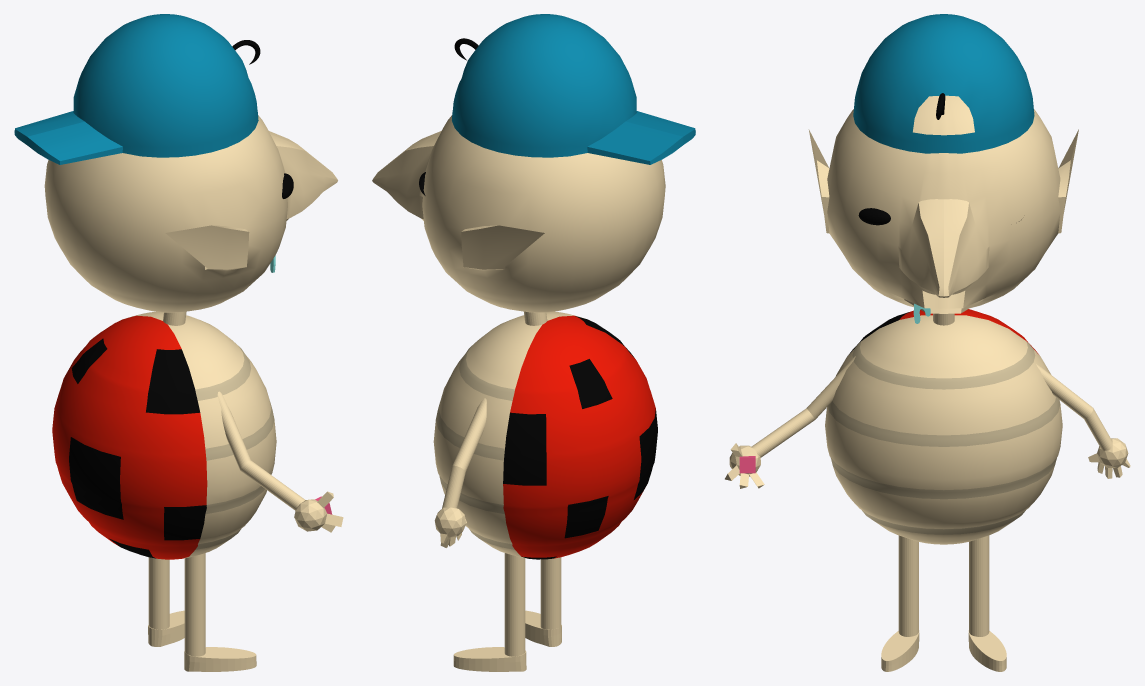
File: Ranchykinz.fbx
3 views of the same model, side by side, from view 1: azimuth 30°, elevation 25°; view 2: azimuth 150°, elevation 25°; view 3: azimuth 270°, elevation 25° (orthographic). The views are drawn at different scales.
Visible parts, largest first — view 1: Sphere.007, Sphere.009, Sphere.008, Cylinder.008, Cylinder.012, Cylinder.011, Cylinder.010, Cylinder.009; view 2: Sphere.007, Sphere.009, Sphere.008, Cylinder.007, Cylinder.011, Cylinder.012, Cylinder.009, Cylinder.010; view 3: Sphere.007, Sphere.009, Sphere.008, Cylinder.008, Cylinder.007, Cylinder.011, Cylinder.012, Cylinder.010, Cylinder.009.
Boxes of the visible parts, x1,y1,x2,y2 form: Sphere.007: [52, 311, 276, 559]; Sphere.009: [44, 115, 337, 312]; Sphere.008: [14, 14, 258, 164]; Cylinder.008: [217, 391, 343, 532]; Cylinder.012: [184, 553, 205, 659]; Cylinder.011: [148, 557, 169, 629]; Cylinder.010: [184, 647, 256, 671]; Cylinder.009: [148, 610, 184, 646]; Sphere.007: [433, 311, 657, 559]; Sphere.009: [372, 115, 665, 312]; Sphere.008: [452, 14, 695, 164]; Cylinder.007: [434, 398, 486, 547]; Cylinder.011: [504, 553, 525, 656]; Cylinder.012: [540, 557, 561, 629]; Cylinder.009: [453, 647, 526, 671]; Cylinder.010: [525, 610, 561, 646]; Sphere.007: [825, 309, 1062, 544]; Sphere.009: [808, 95, 1078, 313]; Sphere.008: [853, 14, 1034, 153]; Cylinder.008: [725, 356, 855, 488]; Cylinder.007: [1036, 363, 1130, 478]; Cylinder.011: [969, 535, 989, 636]; Cylinder.012: [898, 535, 918, 636]; Cylinder.010: [881, 630, 919, 671]; Cylinder.009: [968, 630, 1006, 671].
Size of the model in its own units: 280 by 550 by 326.
